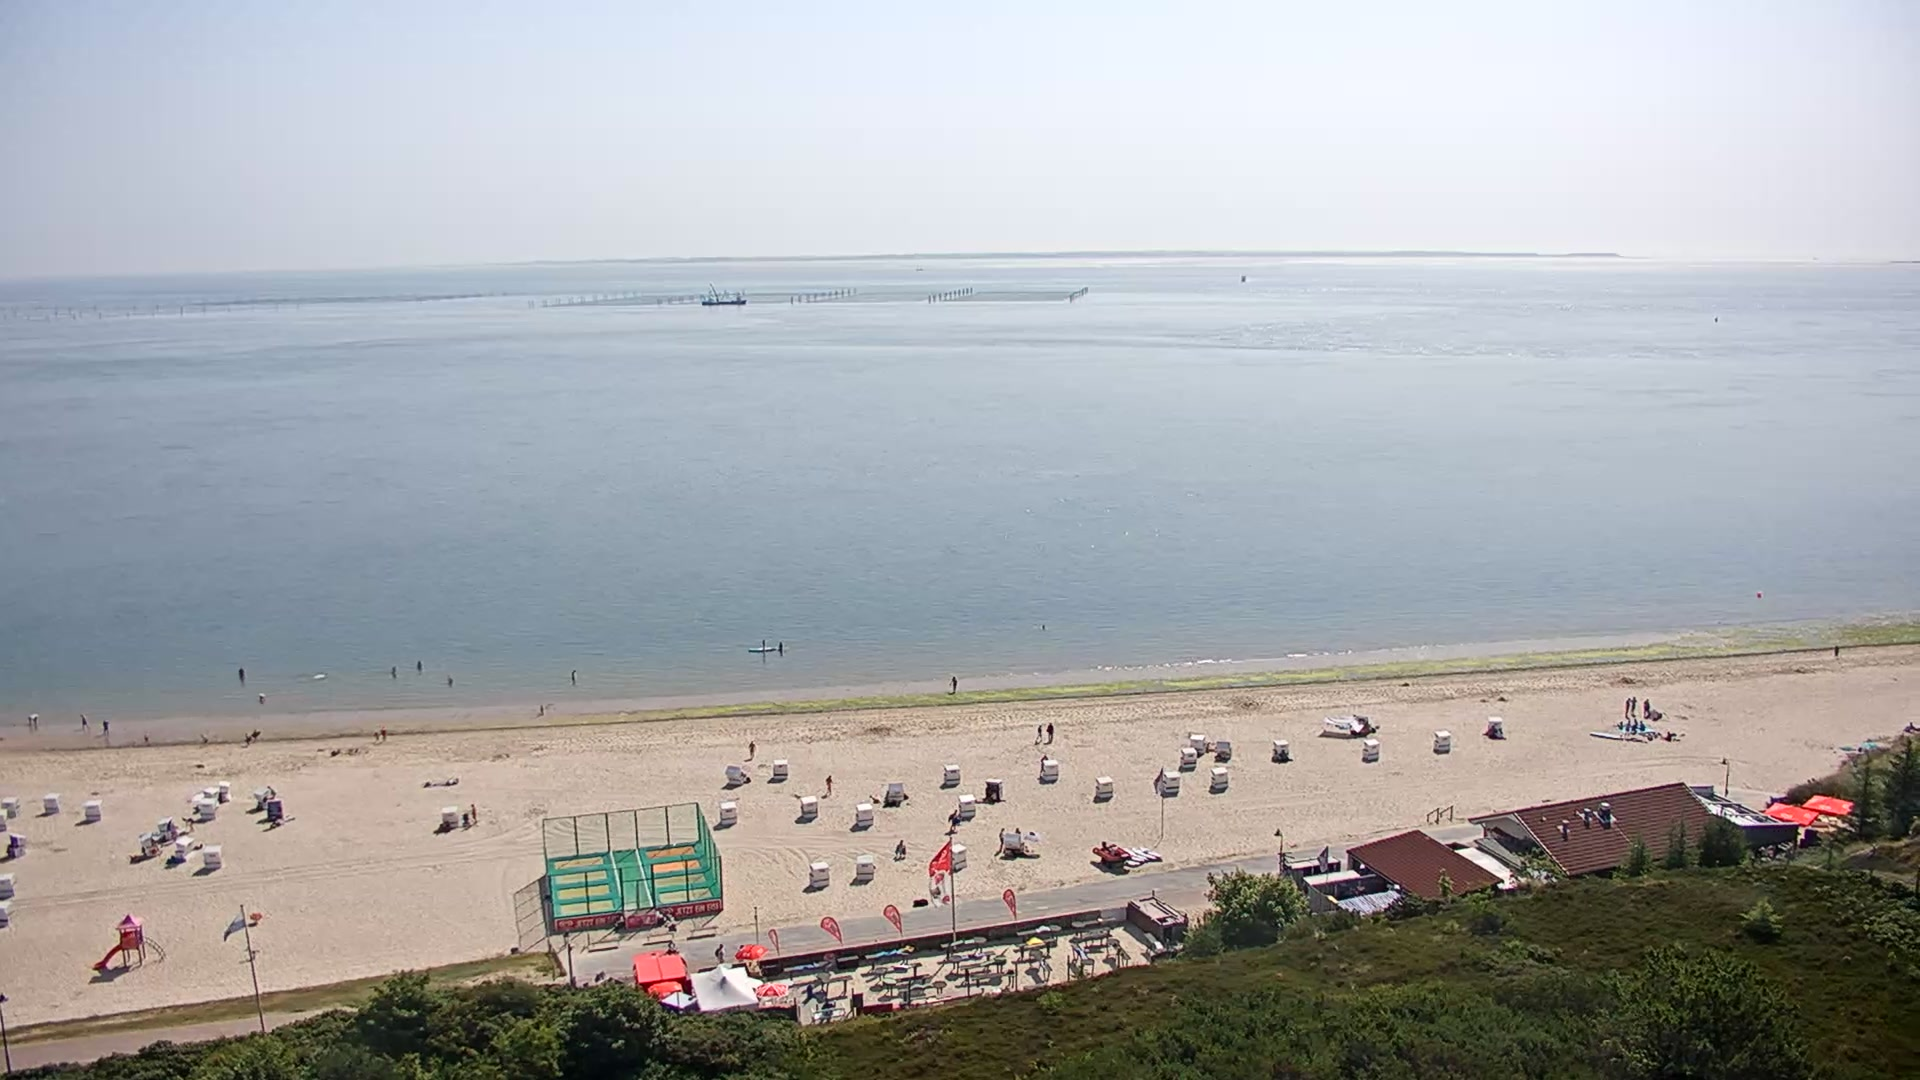human: (948, 807, 962, 833), (820, 997, 837, 1015), (997, 827, 1007, 854), (713, 941, 725, 962), (896, 838, 906, 860), (79, 712, 90, 733), (824, 773, 833, 796), (27, 711, 39, 727), (947, 675, 958, 694), (1642, 698, 1651, 719), (264, 784, 276, 800), (102, 717, 111, 737), (470, 802, 478, 823), (1046, 722, 1054, 744), (1035, 723, 1043, 744), (748, 740, 756, 760), (1625, 697, 1632, 718), (1630, 713, 1638, 732), (1014, 826, 1022, 843), (570, 668, 577, 685), (380, 724, 387, 742), (775, 641, 784, 654), (446, 674, 453, 688), (1630, 696, 1637, 714), (258, 691, 266, 704), (1638, 719, 1646, 732), (390, 665, 397, 679), (1834, 644, 1840, 659), (372, 730, 379, 743)
sea: (701, 282, 748, 306), (1092, 841, 1132, 863), (747, 641, 778, 652)
